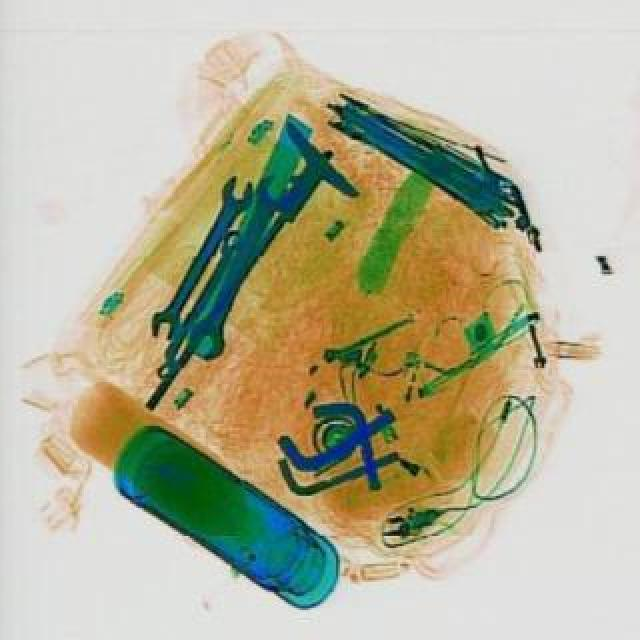scissors: (176, 168, 296, 366), (140, 170, 260, 342)
